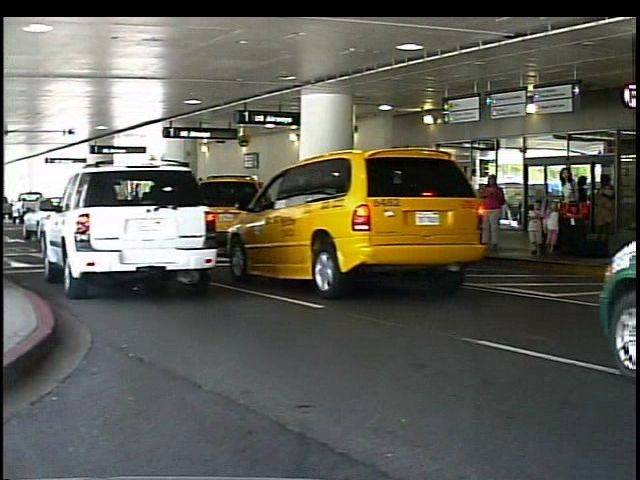person: (557, 165, 583, 257), (490, 172, 509, 258), (597, 174, 620, 243), (575, 174, 595, 243), (530, 200, 550, 255), (546, 201, 563, 254)
